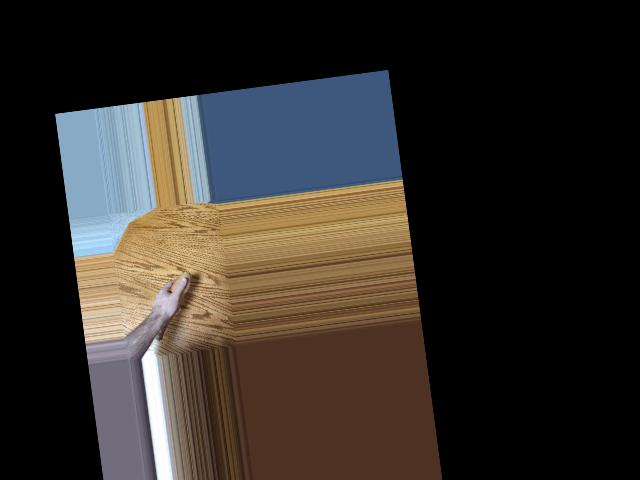sweet_potato: (145, 270, 198, 343)
